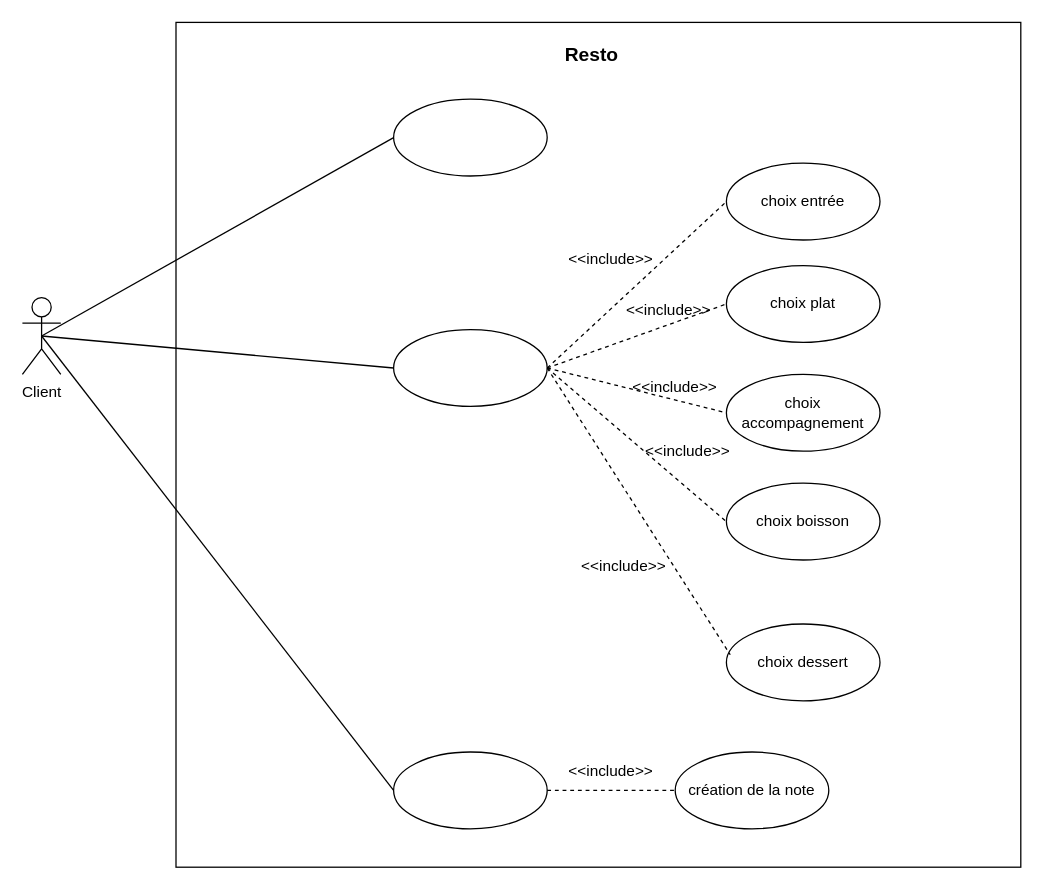
Image size: 1043x890. Some labels were removed from this diagram. Here are the shapes that lost their labels. From the top down, the box of each, then its label:
(392, 98, 547, 176): choix nbre menus
(392, 328, 547, 406): composition du menu
(392, 751, 547, 829): affichage note
